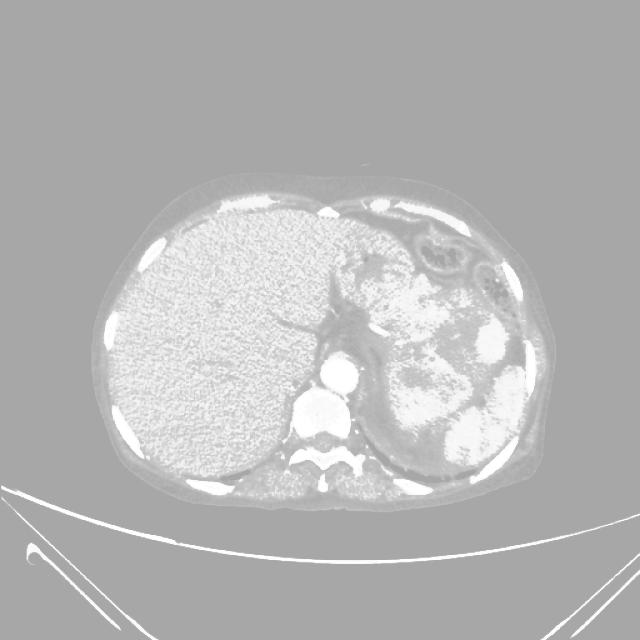TUMOR: (336, 339, 597, 485)
